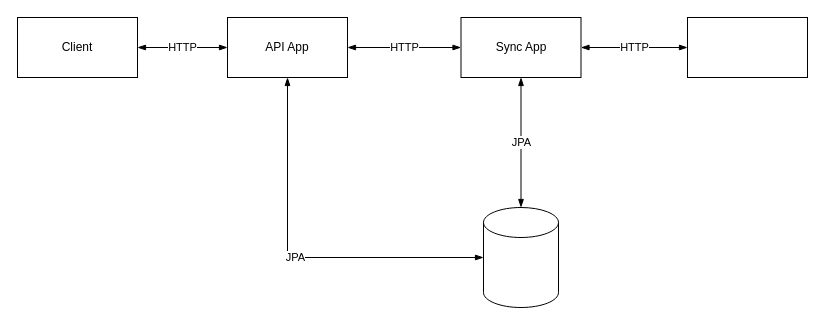
The diagram is 825 pixels wide and 325 high, and some of its shapes have lost their labels. Here are the shapes that lost their labels. From the top down, the centre of each, then its label:
At point (747, 47): "공공 데이터".
At point (520, 257): "DB".
